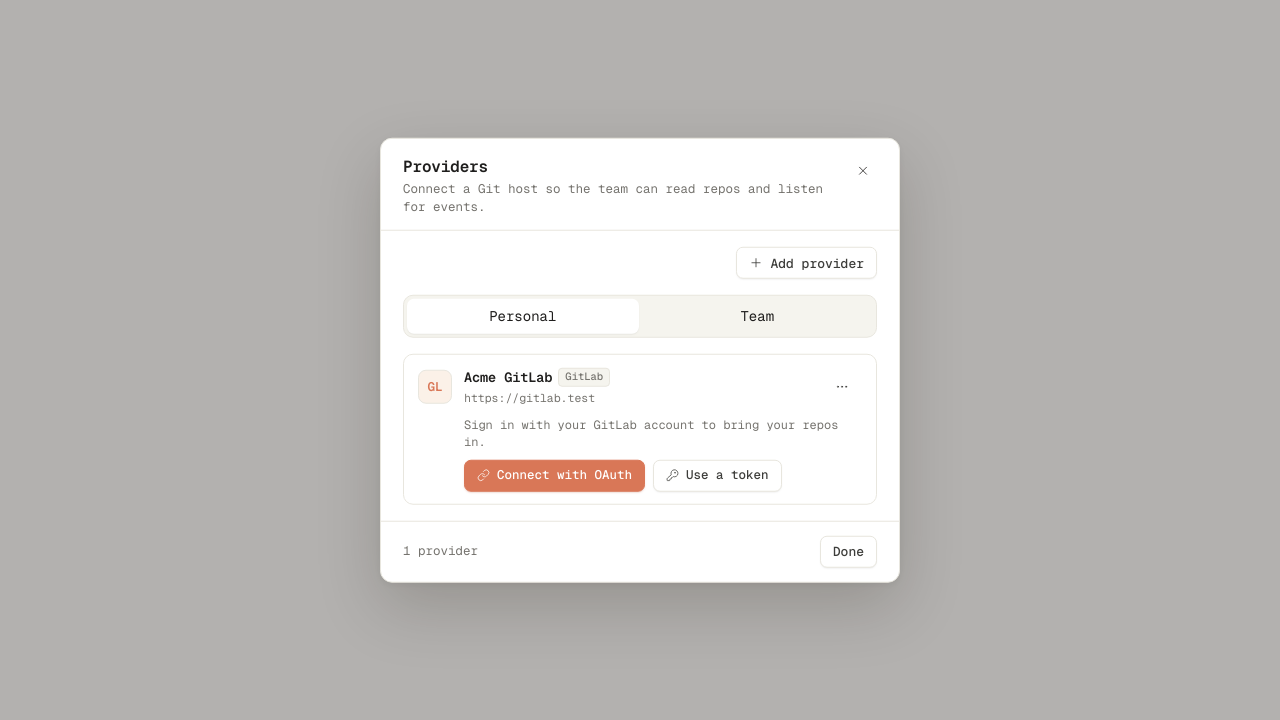
Test: connect remote modal credential controls › gives an admin OAuth connect, the provider menu and a team token to add
The image size is (1280, 720).
expect the button "Connect with OAuth" is shown: met, box [464,459,645,491]
expect the button "Use a token" is shown: met, box [653,459,782,491]
Click the tab "Team".
click(757, 316)  # box [642,299,873,334]
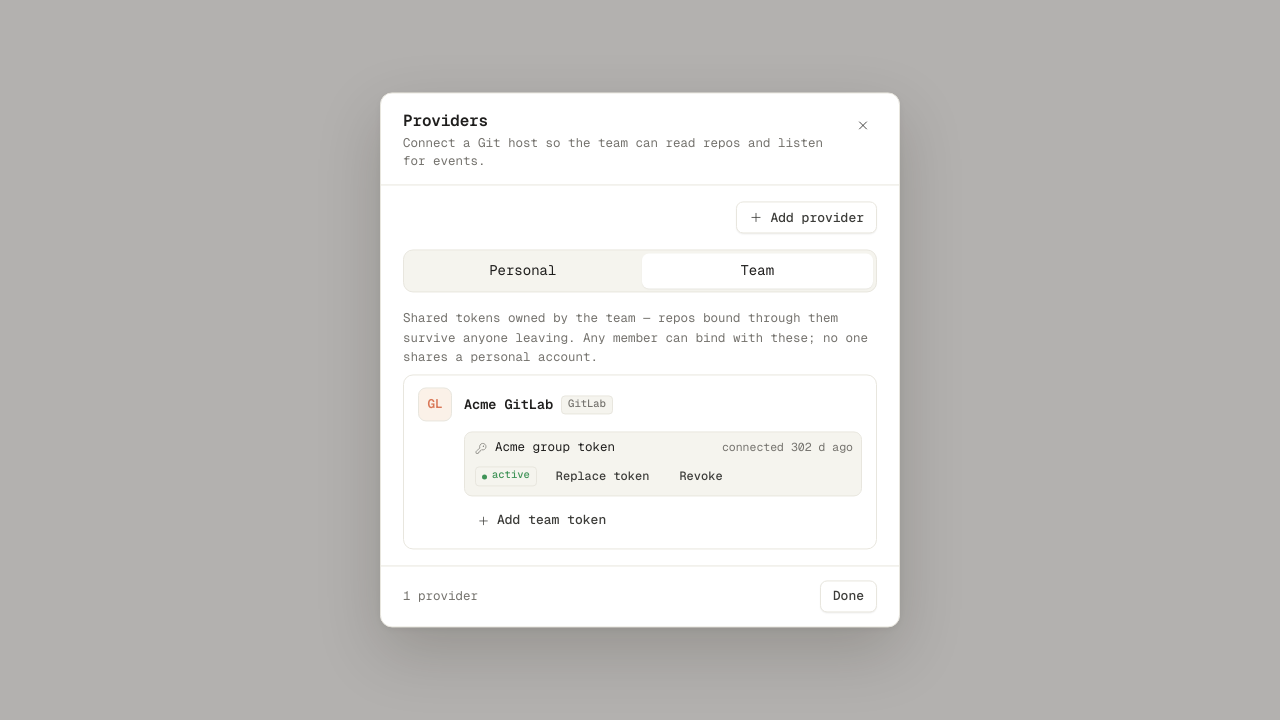
expect the button "Add team token" is shown: met, box [464,505,619,537]
